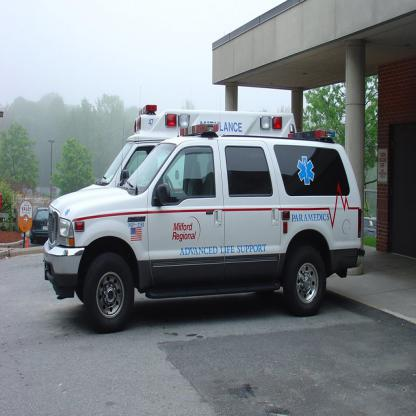bus: (53, 123, 366, 330), (80, 104, 298, 188)
